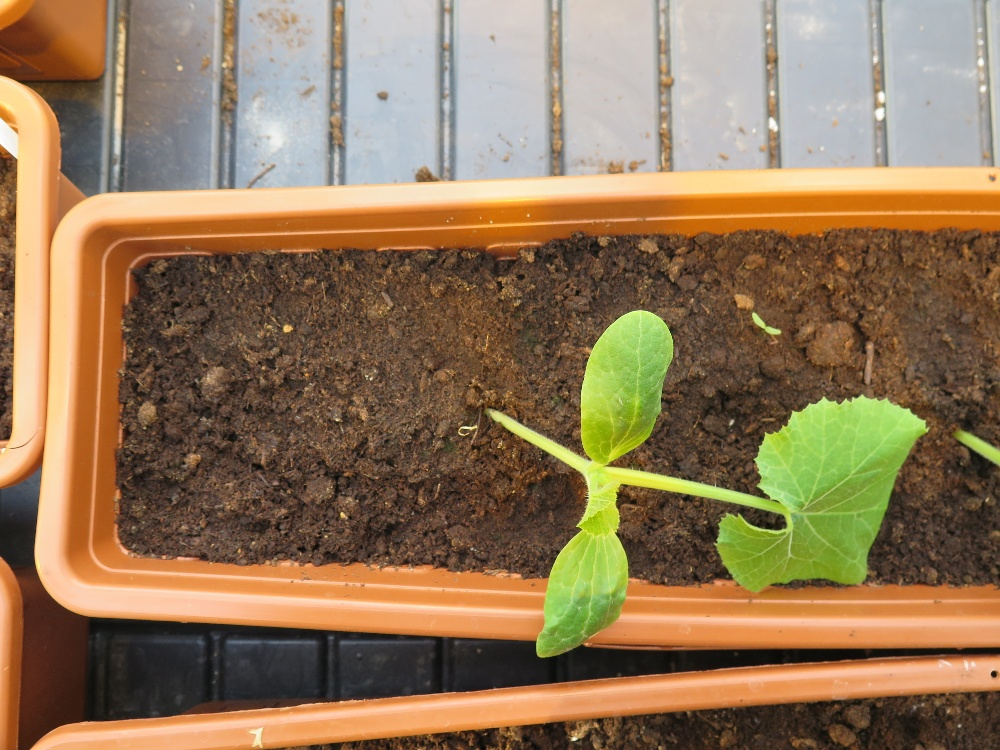crop: (463, 300, 932, 664)
weed: (750, 311, 782, 335)
